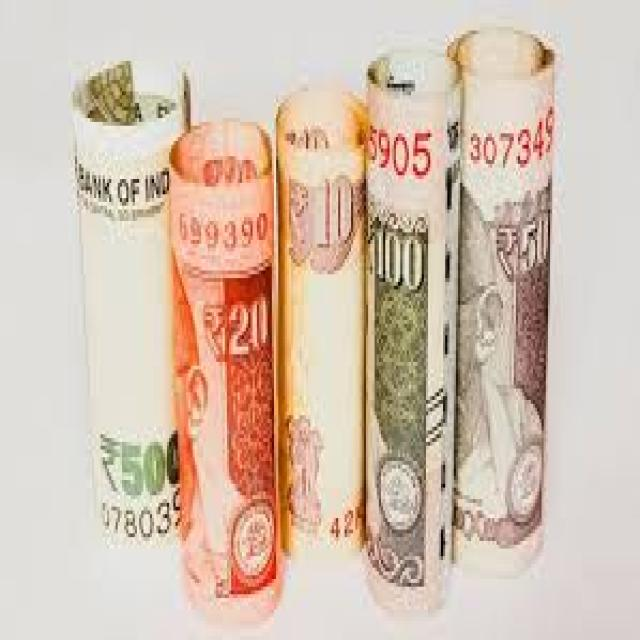money: (270, 88, 382, 579)
